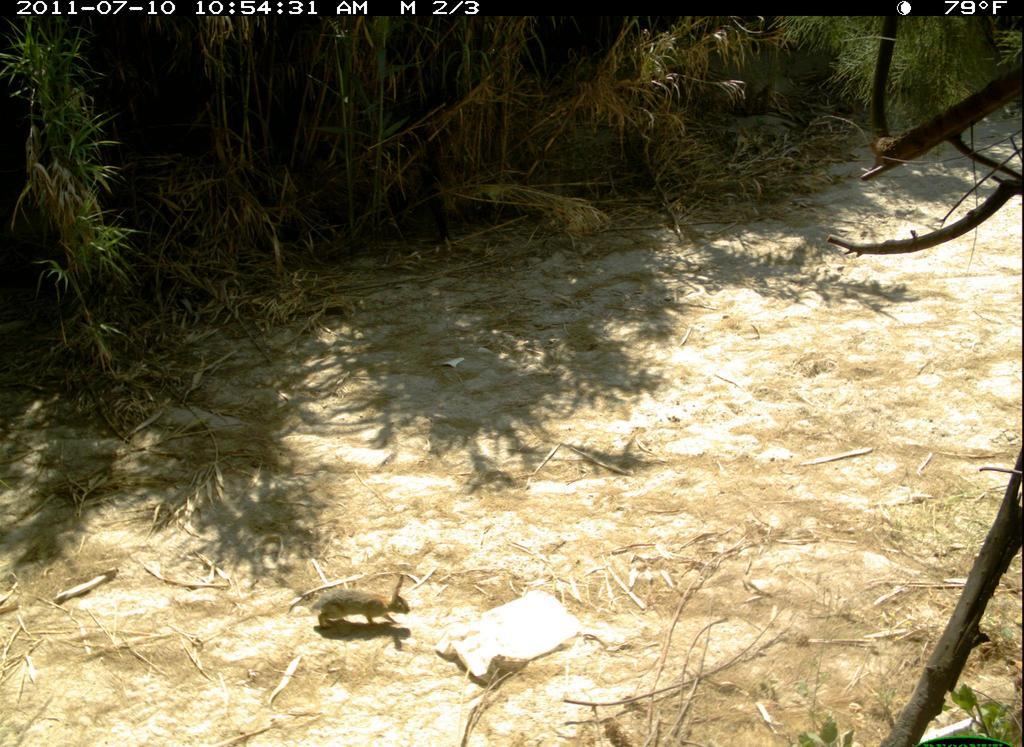rabbit: (306, 565, 418, 649)
